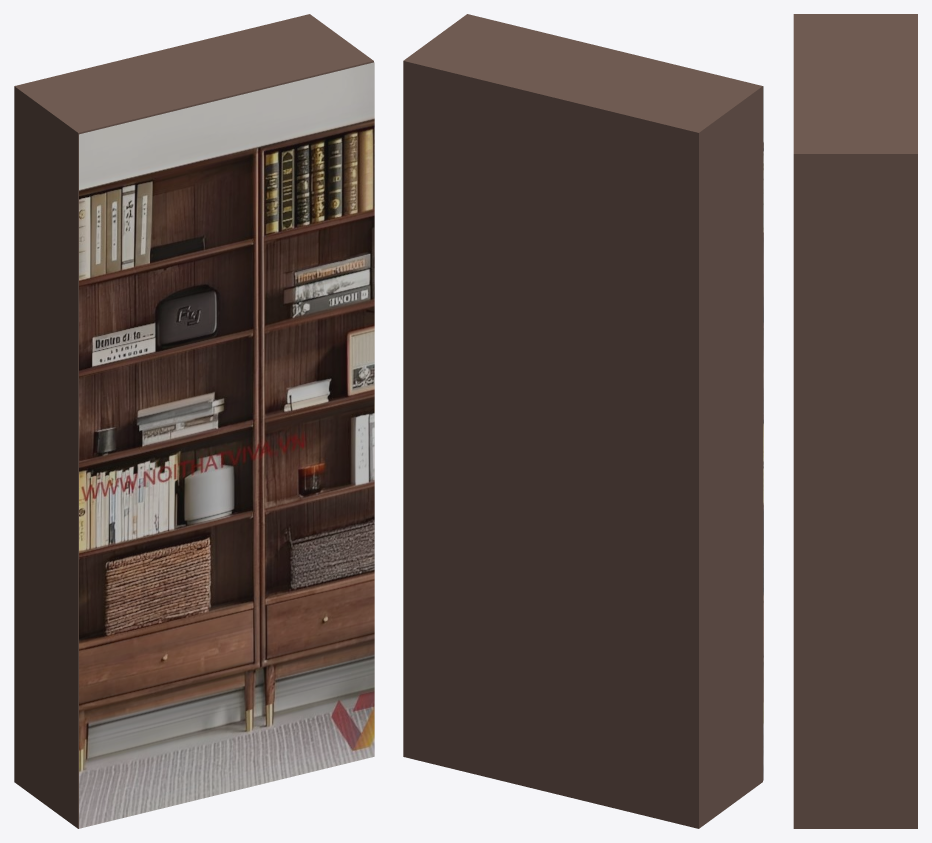
Rendered from mocan-63.glb.
3 renders of one model, left to right at view 1: azimuth 30°, elevation 25°; view 2: azimuth 150°, elevation 25°; view 3: azimuth 270°, elevation 25°, orthographic. The views are drawn at different scales.
Parts seen in each view (by area): view 1: furniture; view 2: furniture; view 3: furniture.
Boxes of the visible parts, x1=… form: furniture: x1=14, y1=14, x2=374, y2=828; furniture: x1=403, y1=14, x2=763, y2=828; furniture: x1=793, y1=14, x2=917, y2=828.
Size of the model in its own units: 0.8 by 1.8 by 0.304.
Materials: 2 (1 with a texture image).
